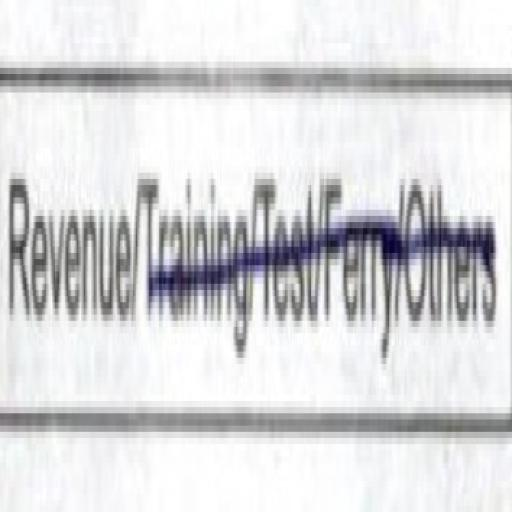check: (0, 6, 140, 462)
